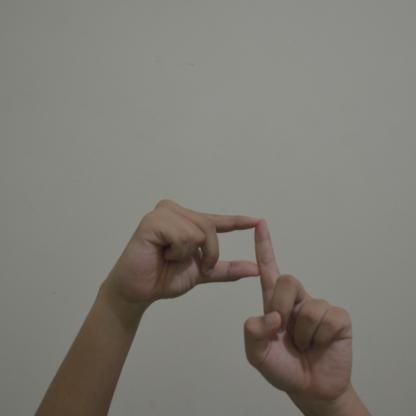P: (73, 192, 369, 405)
